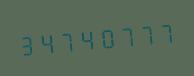four: (37, 25, 56, 59), (77, 21, 96, 55)
seven: (57, 23, 76, 57), (117, 18, 136, 52), (137, 16, 156, 50), (157, 14, 176, 48)
three: (17, 27, 36, 61)
zero: (97, 20, 116, 54)
